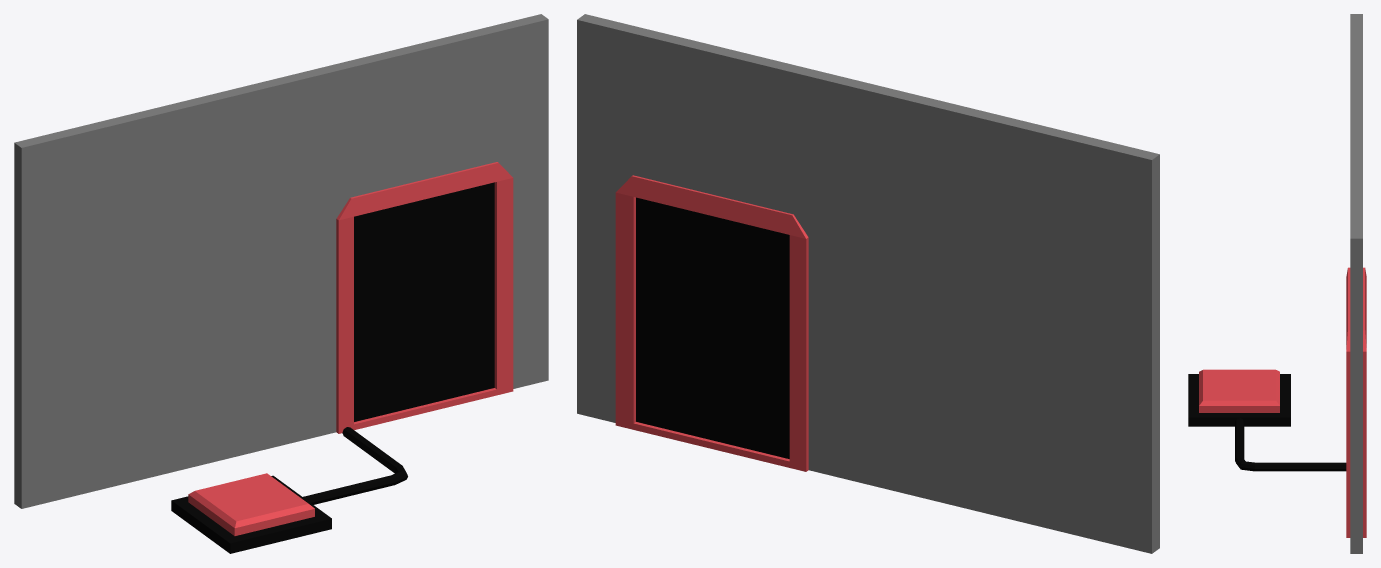
File: DoorSetup.fbx
The picture shows the model from 3 angles, left to right: view 1: azimuth 30°, elevation 25°; view 2: azimuth 150°, elevation 25°; view 3: azimuth 270°, elevation 25°; orthographic projection. The views are drawn at different scales.
Visible parts, largest first — view 1: Wall, Door, Doorway, Button, Padding, Piping; view 2: Wall, Door, Doorway; view 3: Wall, Button, Doorway, Padding, Piping.
Part boxes in pixels (x1,y1,x2,y2): Wall: (14,14,548,508); Door: (354,182,494,421); Doorway: (336,162,513,433); Button: (188,473,314,535); Padding: (171,475,331,553); Piping: (303,427,407,504); Wall: (577,14,1159,553); Door: (636,197,789,458); Doorway: (615,175,808,471); Wall: (1350,14,1362,553); Button: (1199,369,1279,412); Doorway: (1346,267,1366,537); Padding: (1188,374,1290,426); Piping: (1235,418,1346,471).
Bounding box in the file's own units: 1312 × 871 × 441.
